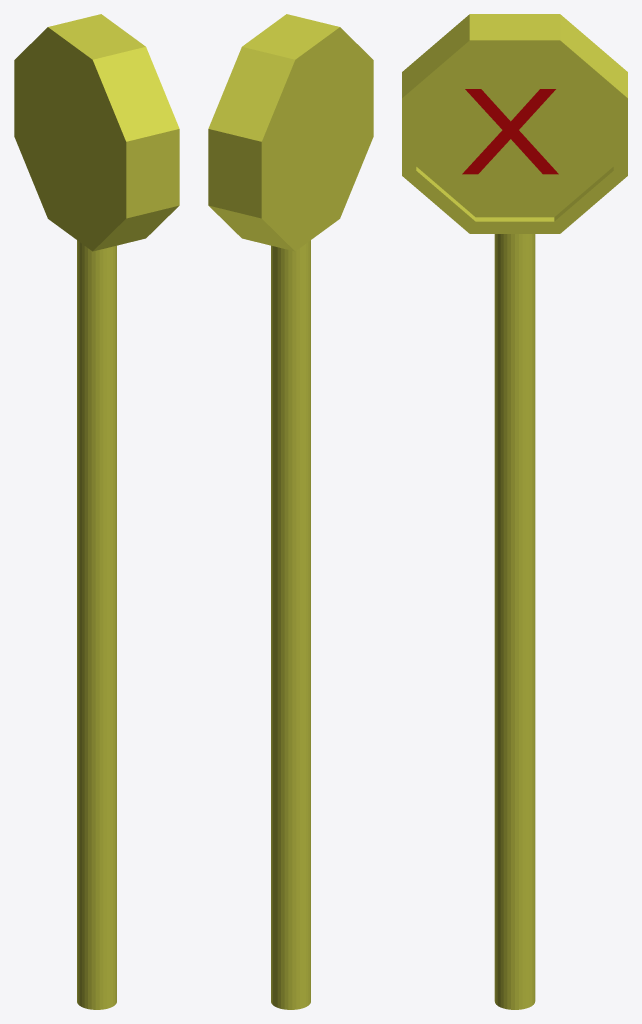
3 renders of one model, left to right at view 1: azimuth 30°, elevation 25°; view 2: azimuth 150°, elevation 25°; view 3: azimuth 270°, elevation 25°, orthographic.
Visible parts, largest first — view 1: X_sign_Cube.002; view 2: X_sign_Cube.002; view 3: X_sign_Cube.002.
Part boxes in pixels (<box>): X_sign_Cube.002: <box>14,14,179,1009</box>; X_sign_Cube.002: <box>208,14,373,1009</box>; X_sign_Cube.002: <box>402,14,627,1009</box>.
Size of the model in its own units: 0.5516 by 9.52 by 2.
